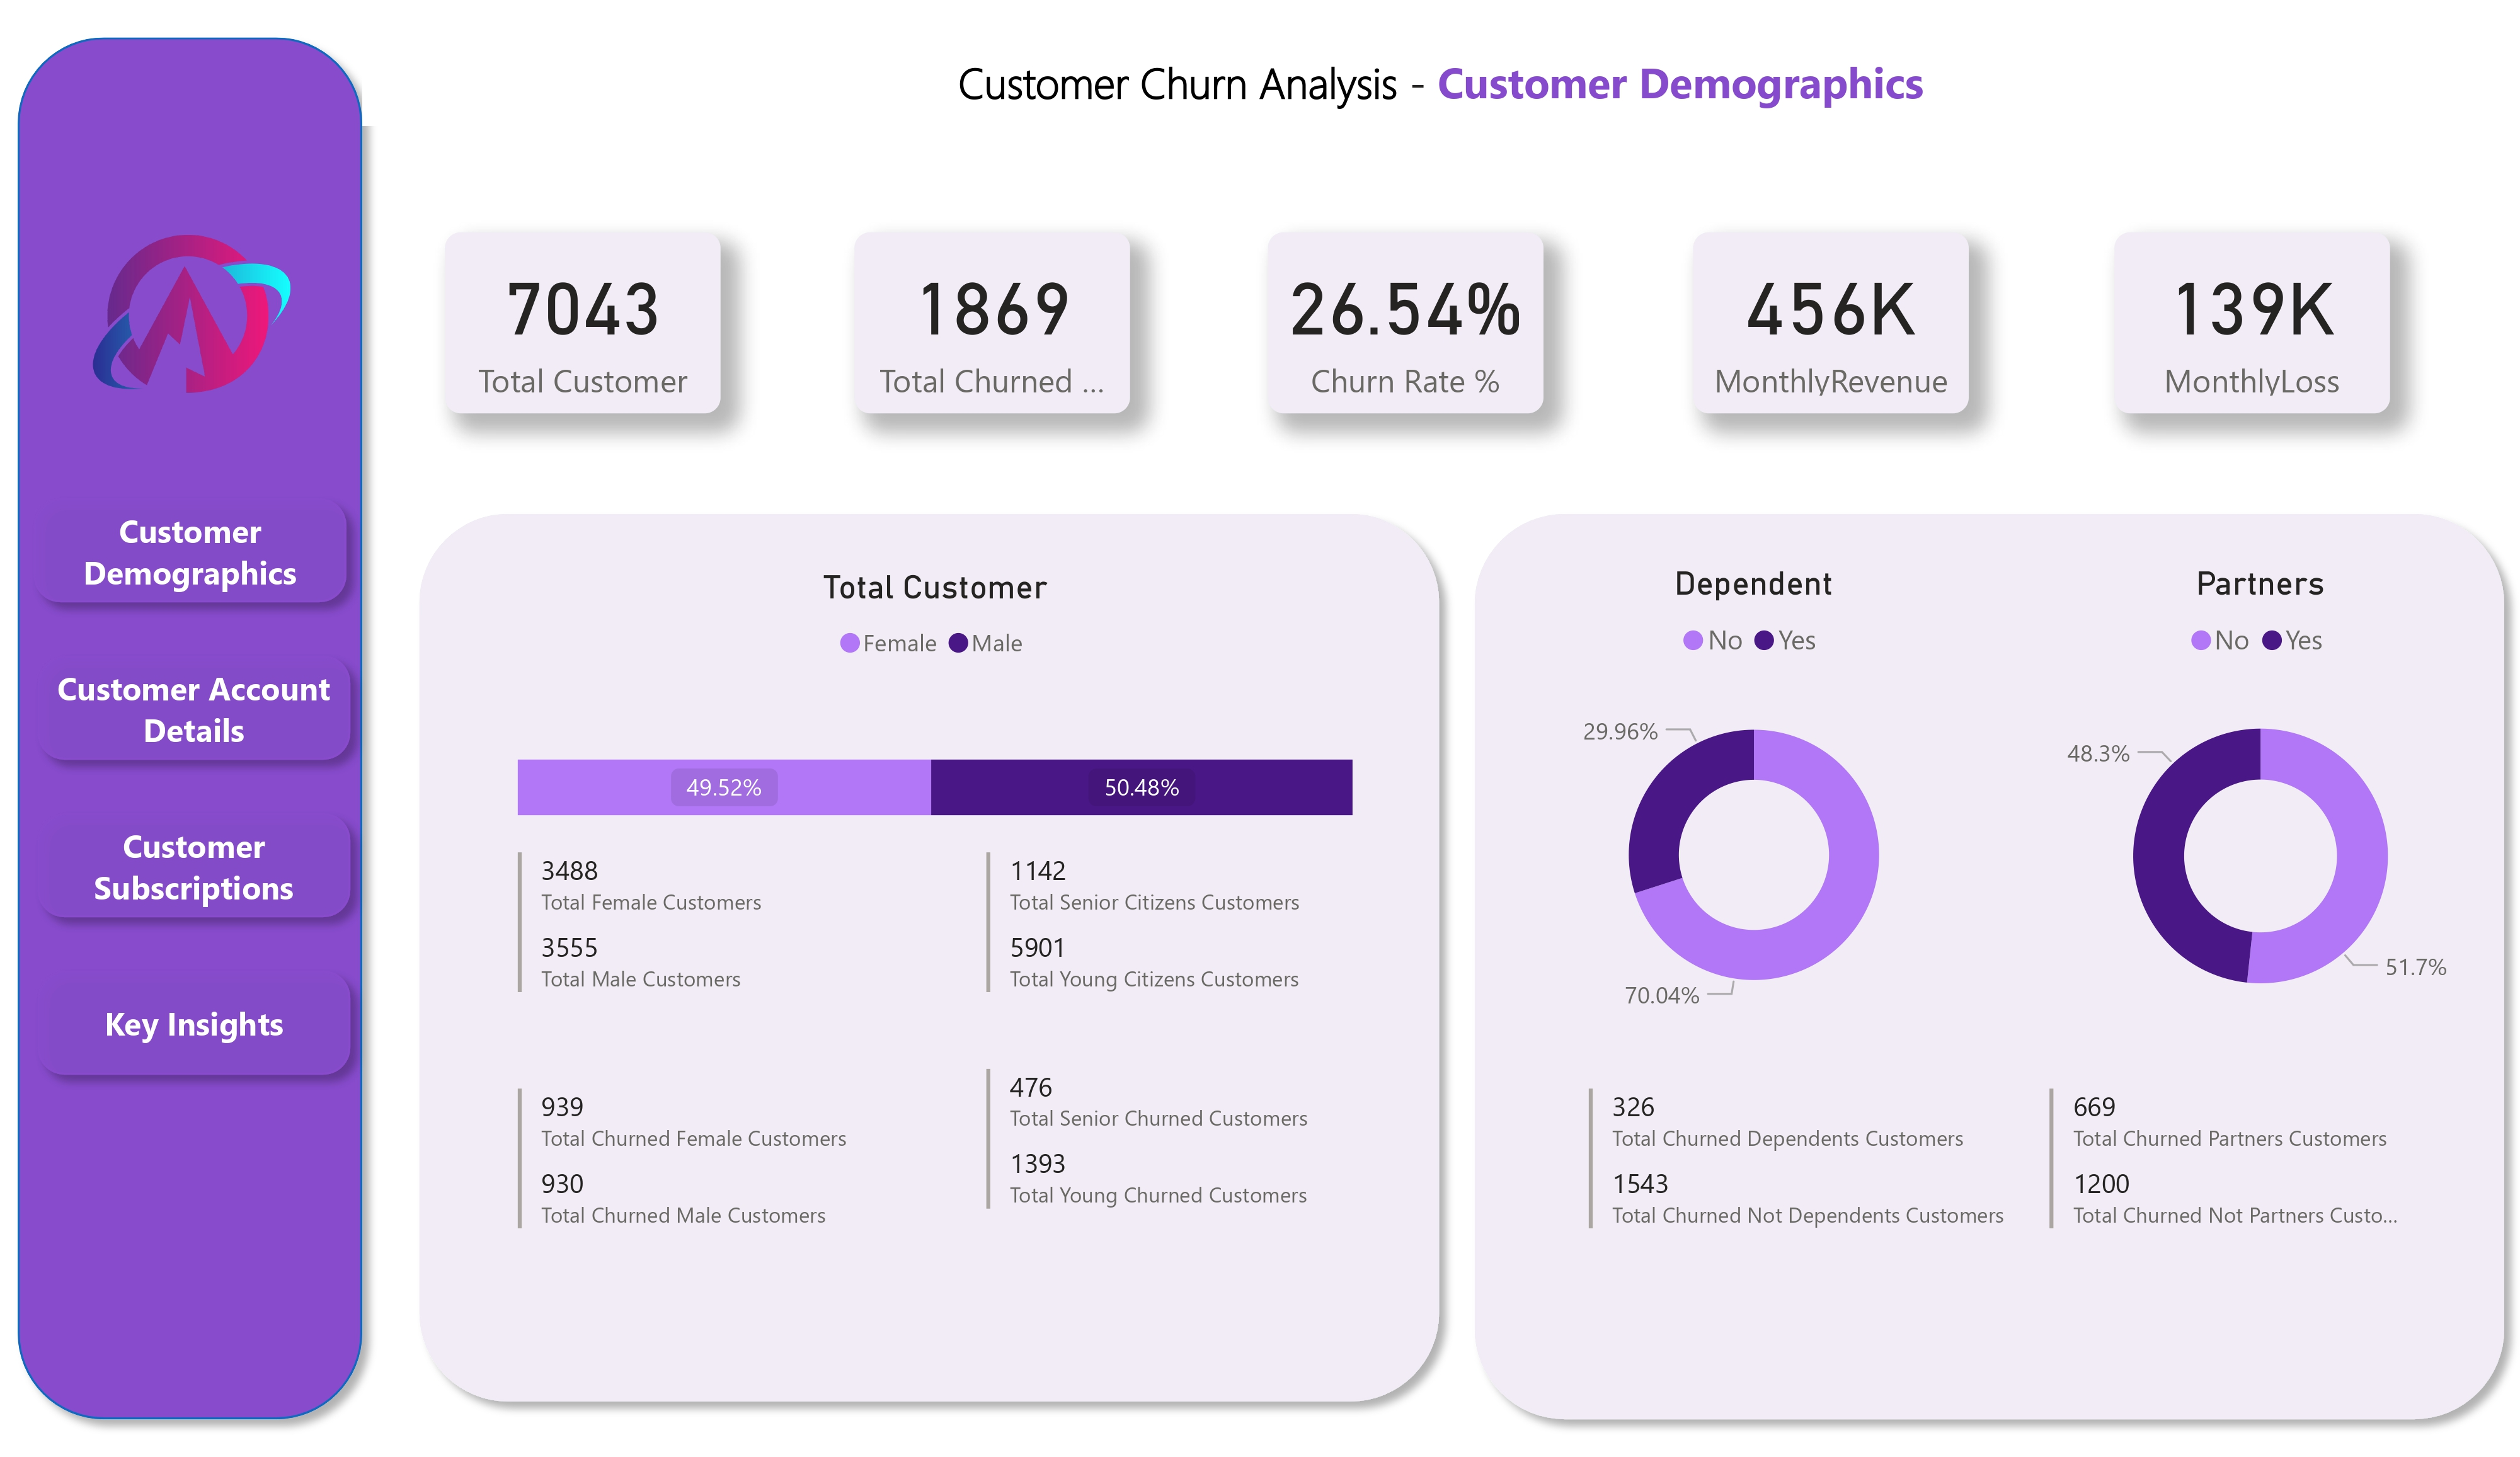

The page's visual inventory and layout, read from the dashboard file:
{"tool":"powerbi","page":{"name":"Overview/Home","canvas":[1280,720],"ordinal":0},"visuals":[{"type":"shape","box":[0,0,193,720],"z":0},{"type":"shape","box":[7,233,177,71],"z":0,"group":"g1"},{"type":"textbox","box":[184,11,1096,42],"z":1000},{"type":"shape","box":[8,313,177,71],"z":1000,"group":"g1"},{"type":"card","fields":{"Values":["CountNonNull(01 Churn-Dataset.customerID)"]},"box":[226,108,140,92],"z":2000},{"type":"shape","box":[8,392,177,71],"z":2000,"group":"g1"},{"type":"card","fields":{"Values":["01 Churn-Dataset.Total Churned Customers"]},"box":[434,108,140,92],"z":3000},{"type":"shape","box":[8,473,177,71],"z":3000,"group":"g1"},{"type":"card","fields":{"Values":["01 Churn-Dataset.Churn Rate %"]},"box":[643.4,108.4,139.8,92],"z":4000},{"type":"card","fields":{"Values":["01 Churn-Dataset.TotalMonthlyRevenue"]},"box":[859,108,140,92],"z":5000},{"type":"card","fields":{"Values":["01 Churn-Dataset.MonthlyLoss"]},"box":[1074,108,140,92],"z":6000},{"type":"shape","box":[739,242,541,478],"z":7000},{"type":"shape","box":[203,242,536,469],"z":8000},{"type":"hundredPercentStackedBarChart","title":"Total Customer","fields":{"Y":["CountNonNull(01 Churn-Dataset.customerID)"],"Series":["01 Churn-Dataset.gender"]},"box":[257,277,434,171],"z":9000},{"type":"multiRowCard","fields":{"Values":["01 Churn-Dataset.Total Female Customers","01 Churn-Dataset.Total Male Customers"]},"box":[257,418,195,109],"z":10000},{"type":"donutChart","title":" Dependent","fields":{"Series":["01 Churn-Dataset.Dependents"],"Y":["CountNonNull(01 Churn-Dataset.Dependents)"]},"box":[781.1,276.7,217.8,248.9],"z":11000},{"type":"donutChart","title":" Partners ","fields":{"Y":["CountNonNull(01 Churn-Dataset.Dependents)"],"Series":["01 Churn-Dataset.Partner"]},"box":[1035.6,276.7,224.4,250],"z":12000},{"type":"multiRowCard","fields":{"Values":["01 Churn-Dataset.Total Churned Female Customers","01 Churn-Dataset.Total Churned Male Customers"]},"box":[257,537,195,109],"z":13000},{"type":"multiRowCard","fields":{"Values":["01 Churn-Dataset.Total Senior Citizens Customers","01 Churn-Dataset.Total Young Citizens Customers"]},"box":[496,418,195,109],"z":14000},{"type":"multiRowCard","fields":{"Values":["01 Churn-Dataset.Total Senior Churned Customers","01 Churn-Dataset.Total Young Churned Customers"]},"box":[496,527,195,109],"z":15000},{"type":"multiRowCard","fields":{"Values":["01 Churn-Dataset.Total Churned Dependents Customers","01 Churn-Dataset.Total Churned Not Dependents Customers"]},"box":[802,537,231,109],"z":16000},{"type":"multiRowCard","fields":{"Values":["01 Churn-Dataset.Total Churned Partners Customers","01 Churn-Dataset.Total Churned Not Partners Customers"]},"box":[1035,537,195,109],"z":17000},{"type":"group","id":"g1","title":"Group 1","box":[7,233,178,311],"z":18000},{"type":"image","box":[7.2,39.8,178.3,202.4],"z":57000}]}

Visuals, with their boxes in screenshot pixels (x1, y1, x2, y2), scaled from the page's 1280x720 canvas onto the 2520x1457 screenshot:
shape: <box>0,0,380,1456</box>
shape: <box>14,472,362,615</box>
textbox: <box>362,22,2519,107</box>
shape: <box>16,634,364,777</box>
card - CountNonNull(01 Churn-Dataset.customerID): <box>445,219,721,404</box>
shape: <box>16,793,364,937</box>
card - 01 Churn-Dataset.Total Churned Customers: <box>854,219,1130,404</box>
shape: <box>16,957,364,1101</box>
card - 01 Churn-Dataset.Churn Rate %: <box>1267,219,1542,406</box>
card - 01 Churn-Dataset.TotalMonthlyRevenue: <box>1691,219,1967,404</box>
card - 01 Churn-Dataset.MonthlyLoss: <box>2114,219,2390,404</box>
shape: <box>1455,489,2519,1456</box>
shape: <box>399,489,1455,1439</box>
"Total Customer" hundredPercentStackedBarChart: <box>506,561,1360,906</box>
multiRowCard - 01 Churn-Dataset.Total Female Customers x 01 Churn-Dataset.Total Male Customers: <box>506,846,890,1066</box>
" Dependent" donutChart: <box>1538,560,1967,1063</box>
" Partners " donutChart: <box>2039,560,2481,1066</box>
multiRowCard - 01 Churn-Dataset.Total Churned Female Customers x 01 Churn-Dataset.Total Churned Male Customers: <box>506,1087,890,1307</box>
multiRowCard - 01 Churn-Dataset.Total Senior Citizens Customers x 01 Churn-Dataset.Total Young Citizens Customers: <box>976,846,1360,1066</box>
multiRowCard - 01 Churn-Dataset.Total Senior Churned Customers x 01 Churn-Dataset.Total Young Churned Customers: <box>976,1066,1360,1287</box>
multiRowCard - 01 Churn-Dataset.Total Churned Dependents Customers x 01 Churn-Dataset.Total Churned Not Dependents Customers: <box>1579,1087,2034,1307</box>
multiRowCard - 01 Churn-Dataset.Total Churned Partners Customers x 01 Churn-Dataset.Total Churned Not Partners Customers: <box>2037,1087,2422,1307</box>
"Group 1" group: <box>14,472,364,1101</box>
image: <box>14,81,365,490</box>
